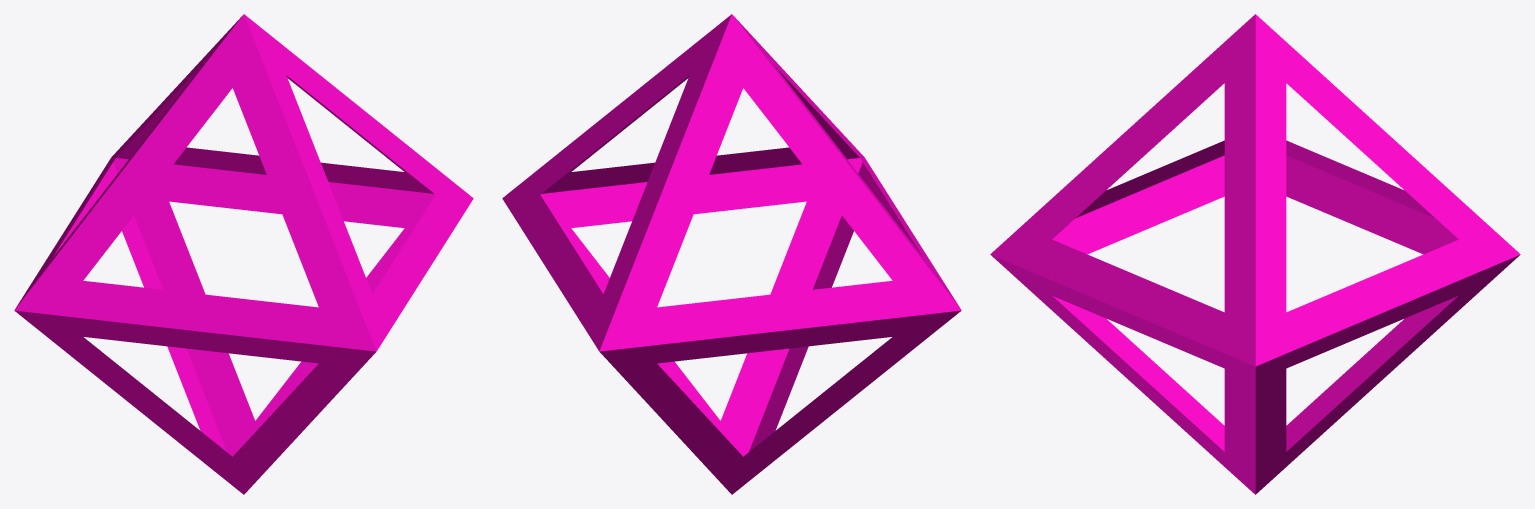
3 views of the same model, side by side, from view 1: azimuth 30°, elevation 25°; view 2: azimuth 150°, elevation 25°; view 3: azimuth 270°, elevation 25° (orthographic).
Parts seen in each view (by area): view 1: pPlatonic1; view 2: pPlatonic1; view 3: pPlatonic1.
Boxes of the visible parts, bbox=[...] form: pPlatonic1: bbox=[14, 14, 473, 494]; pPlatonic1: bbox=[502, 14, 961, 494]; pPlatonic1: bbox=[990, 14, 1520, 494].
Size of the model in its own units: 0.7 by 0.7 by 0.7.
